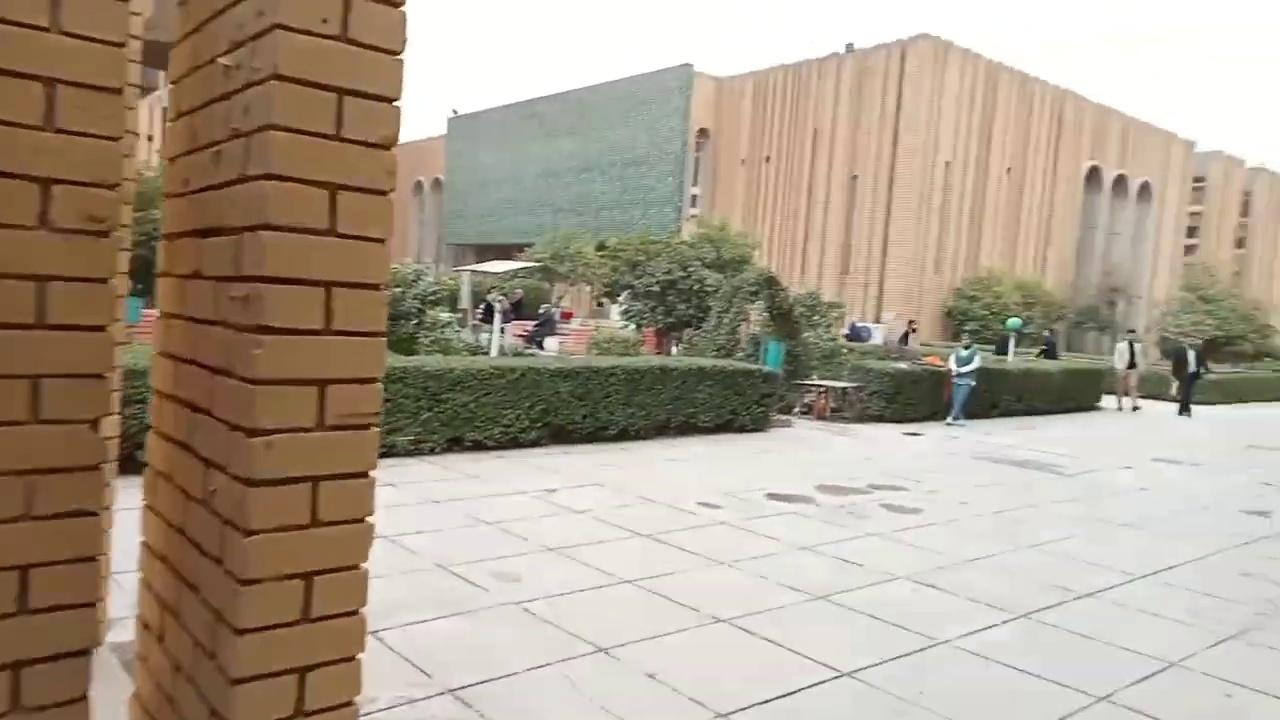person: (944, 334, 981, 424), (1170, 339, 1209, 416), (1113, 327, 1143, 411), (1034, 327, 1057, 359), (896, 318, 918, 347)
tree: (499, 217, 847, 379), (595, 222, 761, 356), (118, 159, 163, 470), (1155, 262, 1277, 365), (615, 247, 716, 354), (940, 264, 1066, 349), (520, 226, 610, 314), (385, 259, 462, 356), (1066, 260, 1139, 354), (782, 286, 847, 380), (126, 162, 163, 304), (118, 339, 153, 469)
